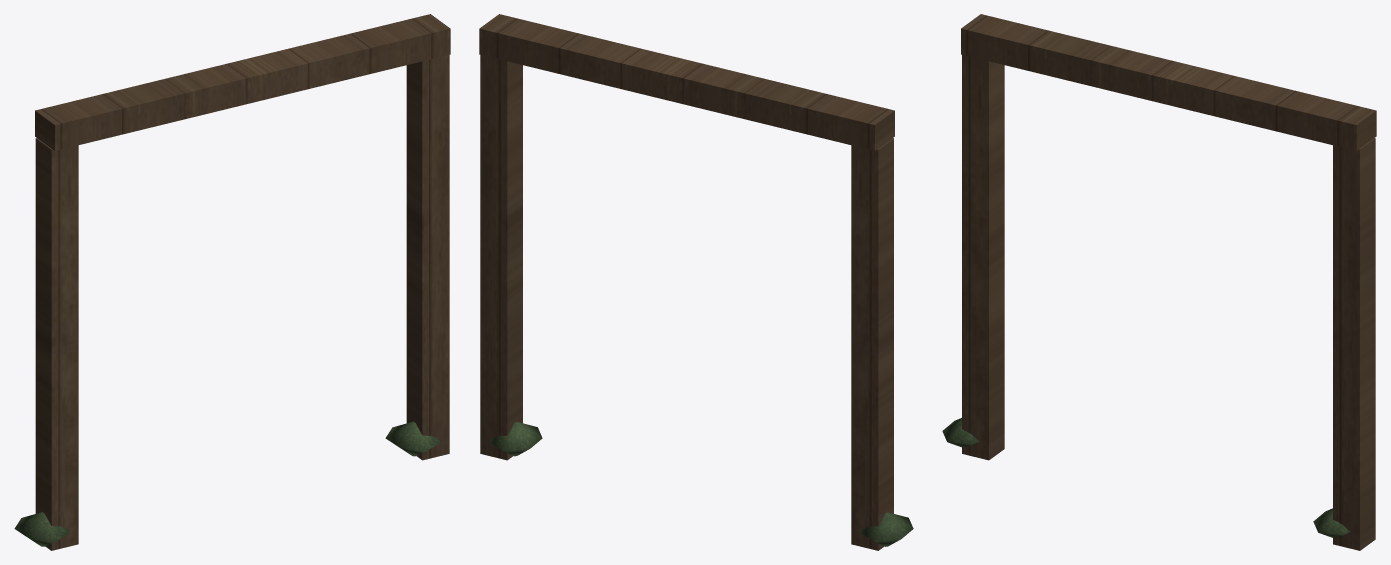
Rendered from arrival-gate.mobile.glb.
3 renders of one model, left to right at view 1: azimuth 30°, elevation 25°; view 2: azimuth 150°, elevation 25°; view 3: azimuth 330°, elevation 25°, orthographic.
Visible parts, largest first — view 1: SA_G13_MESH_00, SA_G13_MESH_01; view 2: SA_G13_MESH_00, SA_G13_MESH_01; view 3: SA_G13_MESH_00, SA_G13_MESH_01.
Boxes of the visible parts, bbox=[...] form: SA_G13_MESH_00: bbox=[35, 14, 450, 550]; SA_G13_MESH_01: bbox=[14, 421, 440, 546]; SA_G13_MESH_00: bbox=[479, 14, 894, 550]; SA_G13_MESH_01: bbox=[489, 421, 913, 546]; SA_G13_MESH_00: bbox=[961, 14, 1376, 550]; SA_G13_MESH_01: bbox=[942, 418, 1349, 537].
Size of the model in its own units: 3.4 by 3.3 by 0.464.
2 materials, 2 textured.
